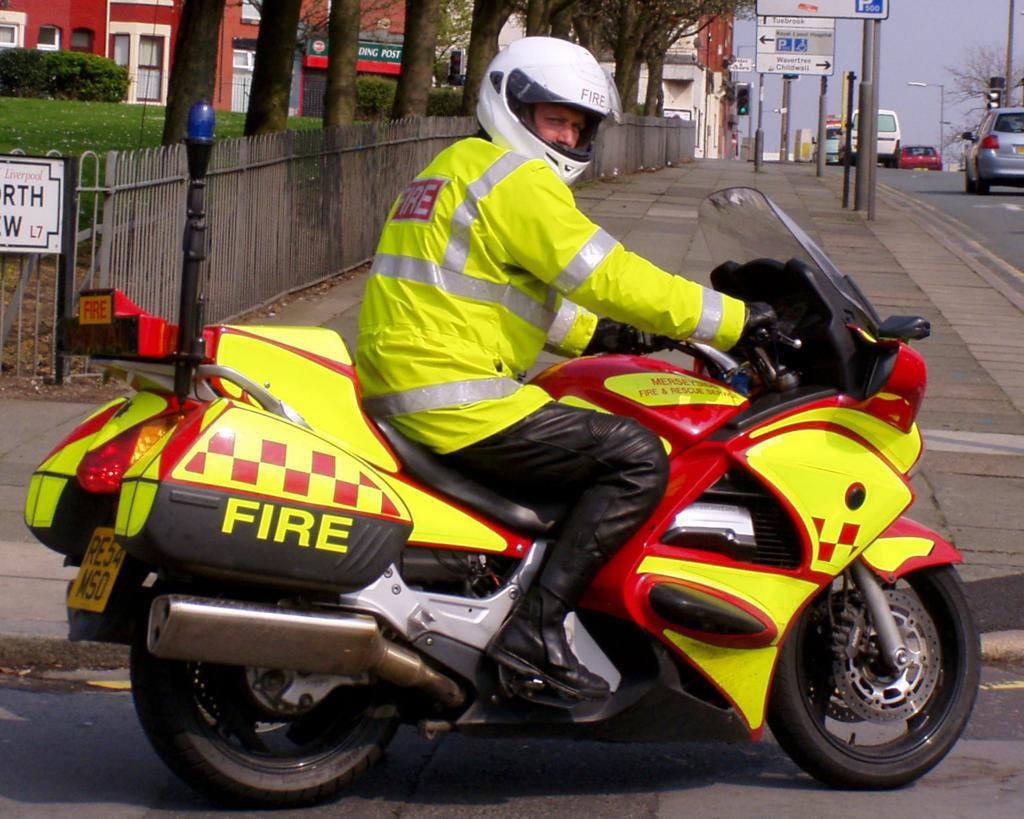face: (525, 87, 583, 185)
